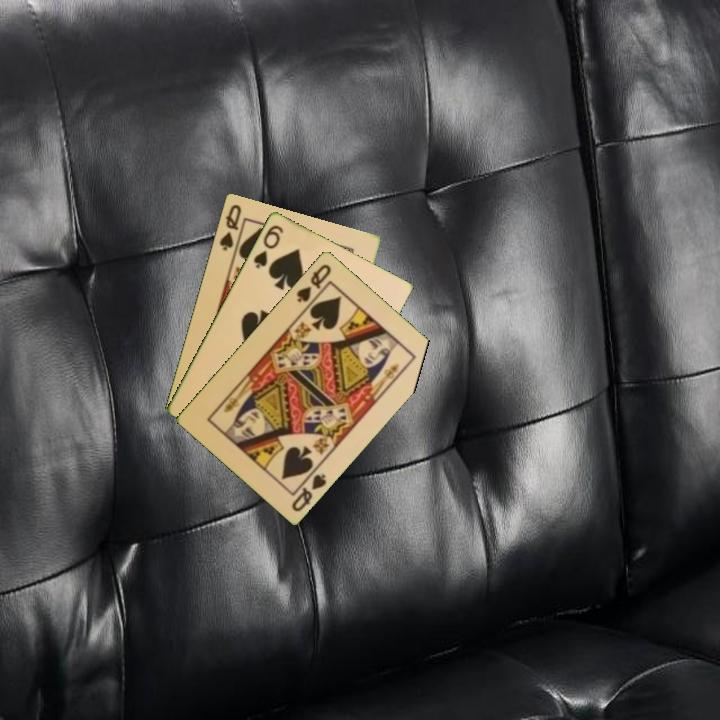6s: (249, 221, 286, 271)
Qs: (293, 260, 334, 305), (288, 469, 329, 514), (216, 200, 244, 253)
